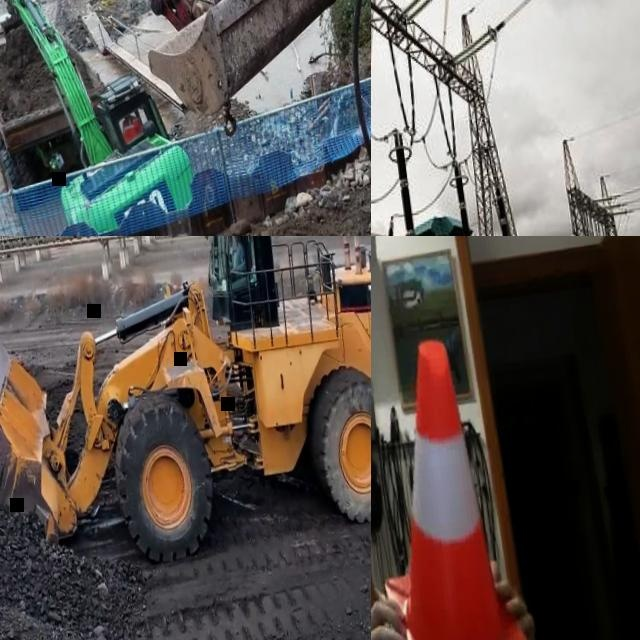NO-Hardhat: (233, 236, 241, 239)
NO-Mask: (233, 238, 239, 244)
NO-Safety Vest: (231, 245, 245, 271)
Person: (371, 329, 547, 640), (225, 236, 246, 276), (120, 112, 142, 142)
Safety Cone: (371, 331, 538, 640)
Safety Vest: (121, 115, 139, 140)
machinery: (0, 236, 371, 595), (78, 0, 371, 236), (0, 0, 197, 236)
